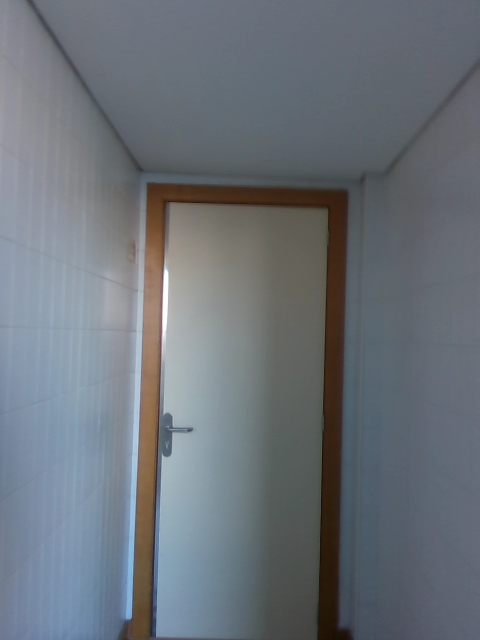closed: (129, 179, 354, 635)
